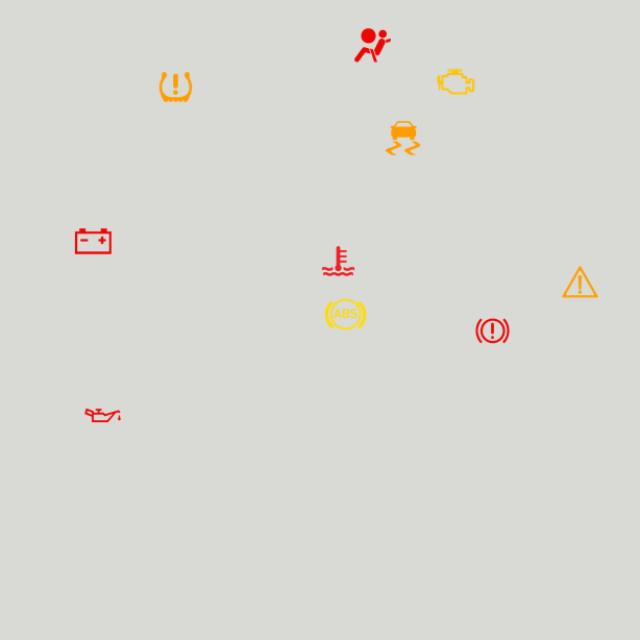Anti Lock Braking System: (323, 292, 368, 337)
Braking System Issue: (470, 308, 515, 354)
Charging System Issue: (71, 219, 116, 264)
Check Engine: (434, 59, 478, 104)
Electronic Stability Problem -ESP-: (380, 116, 426, 160)
Engine Overheating Warning Light: (316, 238, 360, 284)
Low Engine Oil Warning Light: (80, 393, 125, 438)
Low Tire Pressure Warning Light: (153, 64, 198, 110)
Master warning light: (558, 260, 602, 304)
SRS-Airbag: (350, 23, 395, 68)
